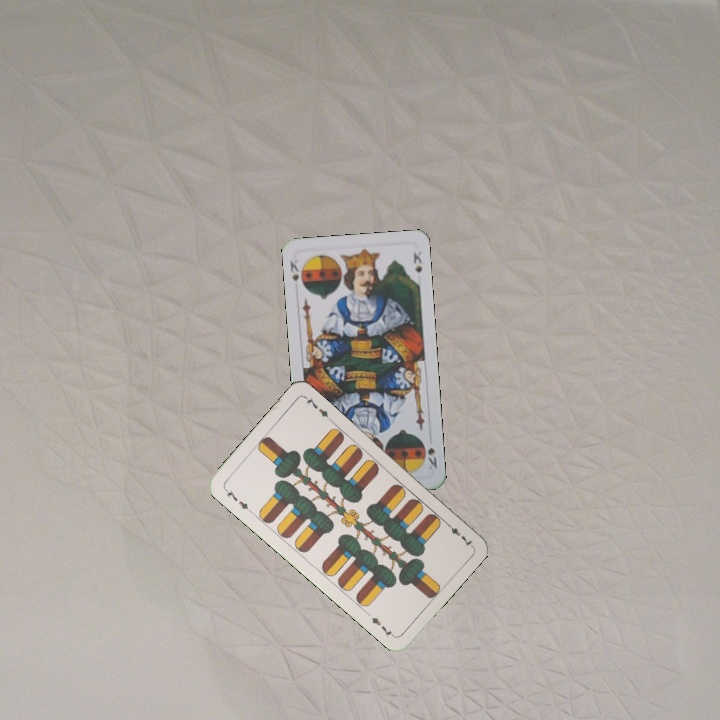E7: (441, 518, 475, 550), (220, 484, 254, 515)
SK: (285, 256, 302, 285), (424, 443, 439, 472)
